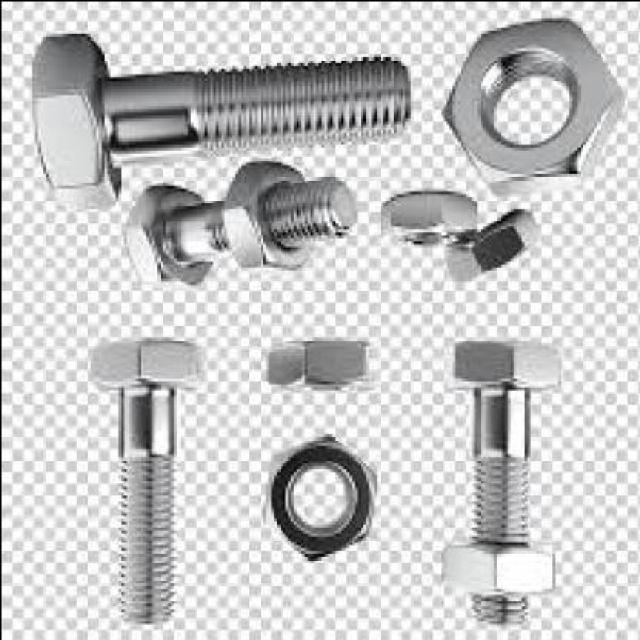METAL: (28, 35, 406, 211), (436, 17, 618, 201), (89, 344, 198, 630), (122, 161, 356, 290), (449, 345, 553, 620), (262, 436, 371, 564), (471, 392, 526, 626), (114, 392, 169, 622), (217, 164, 306, 268), (439, 207, 538, 284), (89, 342, 194, 392), (378, 193, 471, 249), (440, 547, 551, 593), (449, 345, 553, 392), (264, 346, 364, 392)
